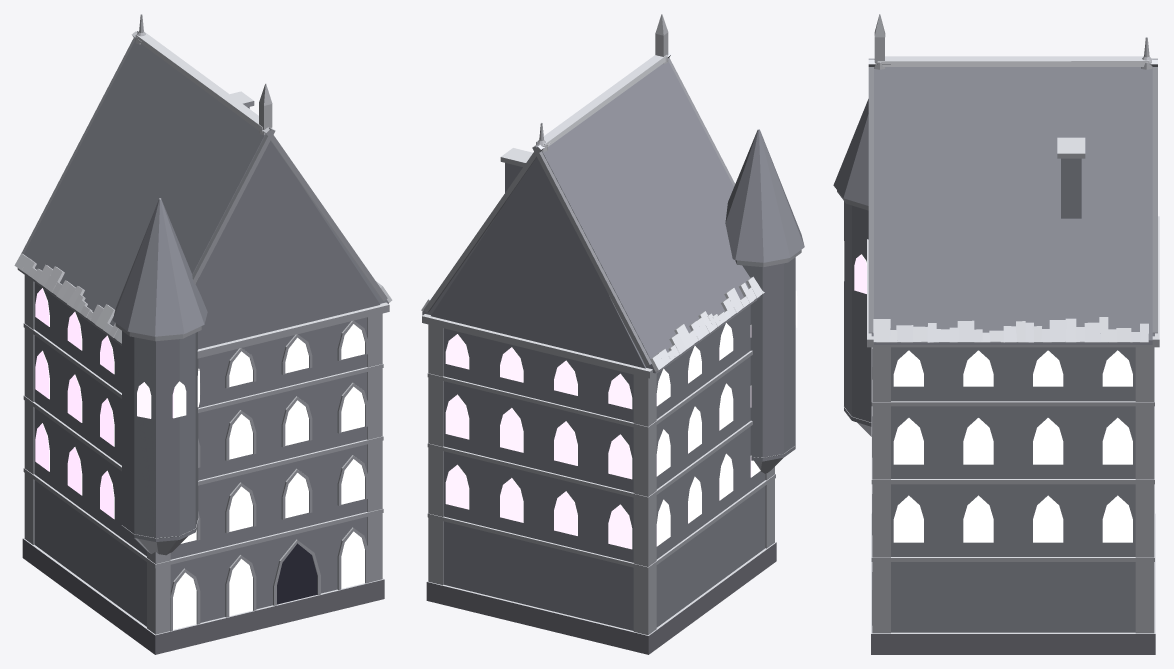
Rendered from AR_Lote_Torreada.fbx.
3 views of the same model, side by side, from view 1: azimuth 30°, elevation 25°; view 2: azimuth 150°, elevation 25°; view 3: azimuth 270°, elevation 25° (orthographic). The views are drawn at different scales.
Visible parts, largest first — view 1: AR_Lote_Torreada; view 2: AR_Lote_Torreada; view 3: AR_Lote_Torreada.
Part boxes in pixels (bbox=[...]): AR_Lote_Torreada: bbox=[14, 14, 392, 654]; AR_Lote_Torreada: bbox=[421, 14, 804, 654]; AR_Lote_Torreada: bbox=[833, 14, 1159, 654].
Bounding box in the file's own units: 14.28 × 27.6 × 14.05.
